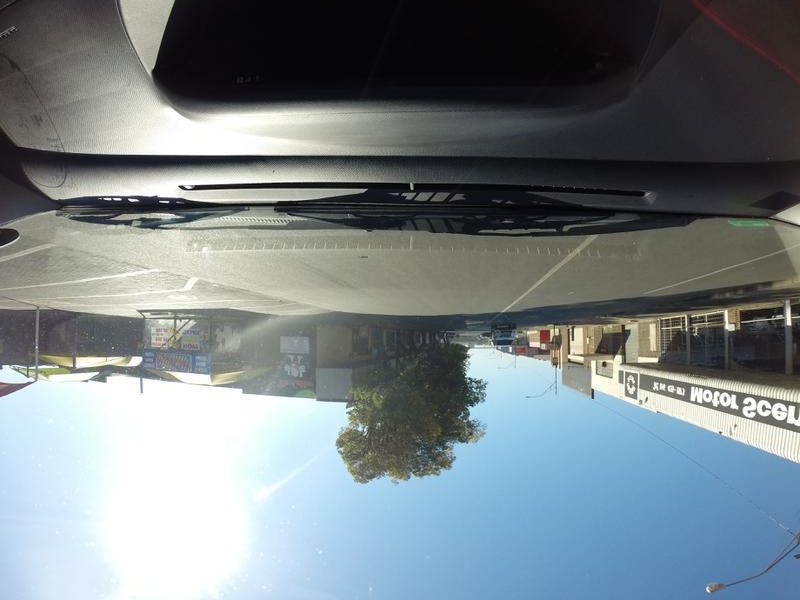pothole: (359, 253, 372, 261)
